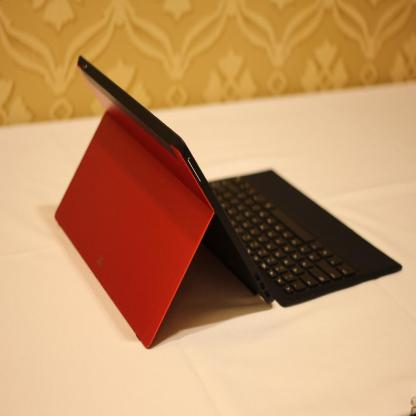board: (77, 55, 402, 309)
